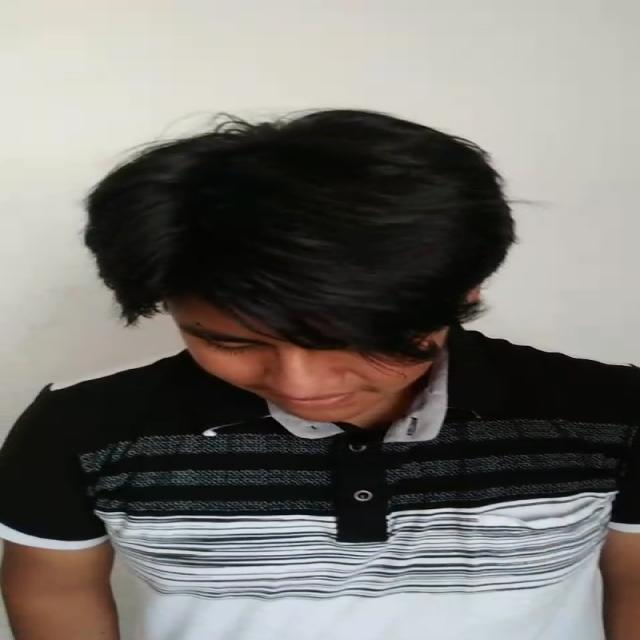9_cabeza_baja: (88, 108, 517, 422)
